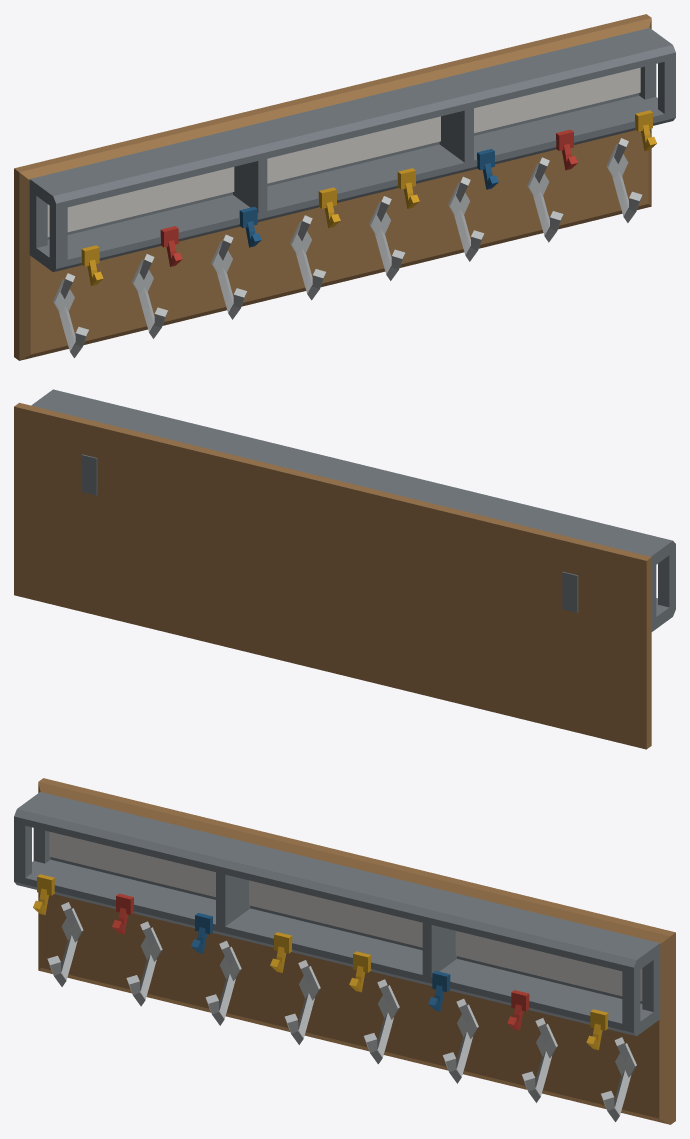
The model's file is coat-peg-rail-5e07ae.glb.
3 views of the same model, one above another, from view 1: azimuth 30°, elevation 25°; view 2: azimuth 150°, elevation 25°; view 3: azimuth 330°, elevation 25° (orthographic).
Visible parts, largest first — view 1: coat-peg-rail-body; view 2: coat-peg-rail-body; view 3: coat-peg-rail-body.
Boxes of the visible parts, box(x1,y1,x2,y2) form: coat-peg-rail-body: box(14, 14, 675, 360); coat-peg-rail-body: box(14, 389, 675, 749); coat-peg-rail-body: box(14, 778, 675, 1124).
Bounding box in the file's own units: 1 × 0.285 × 0.13.
